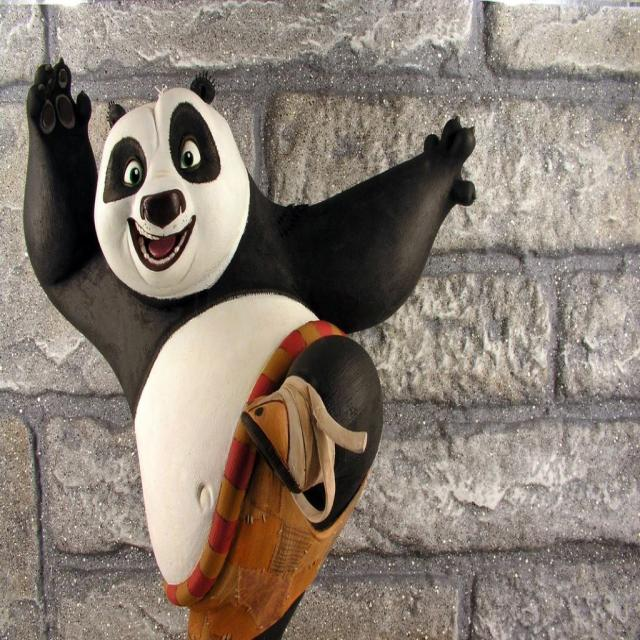panda: (21, 55, 478, 639)
